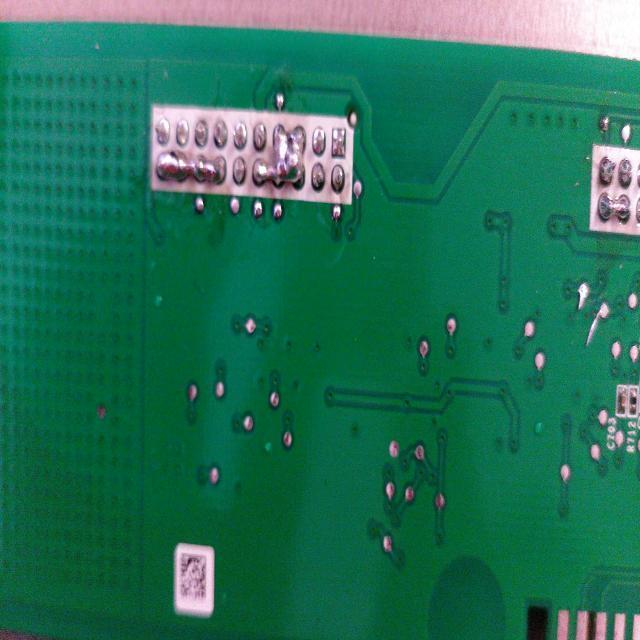Soldering shorted: (251, 116, 309, 200), (155, 148, 229, 187), (594, 192, 636, 228)
